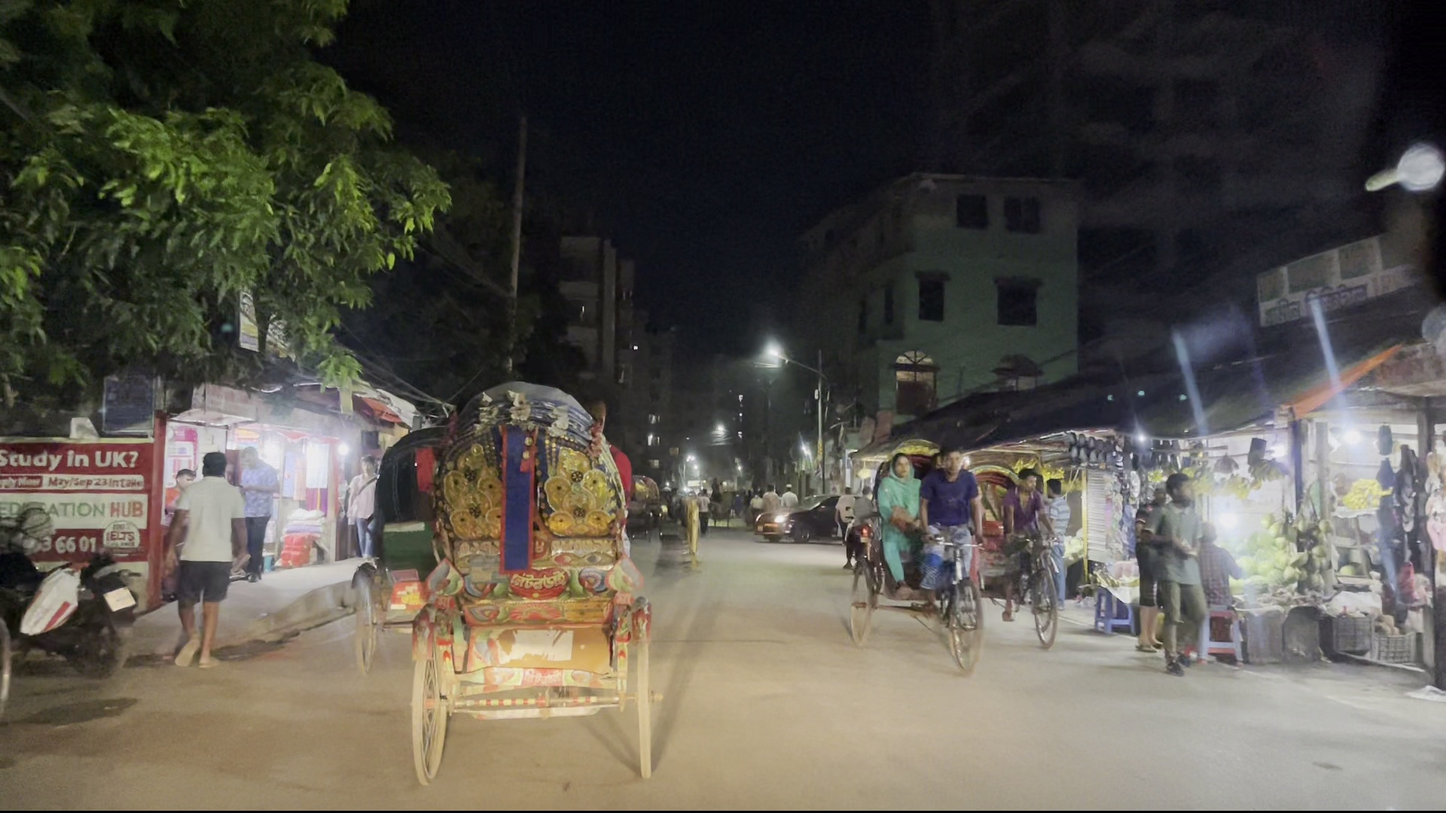bicycle: (1002, 544, 1063, 650)
car: (742, 485, 862, 562)
person: (1138, 472, 1232, 692), (171, 447, 247, 682), (855, 455, 941, 624), (922, 449, 987, 597), (1072, 510, 1130, 662), (235, 435, 283, 584), (996, 464, 1051, 559), (342, 446, 381, 559), (695, 483, 724, 547), (758, 480, 782, 504), (777, 483, 800, 504)
